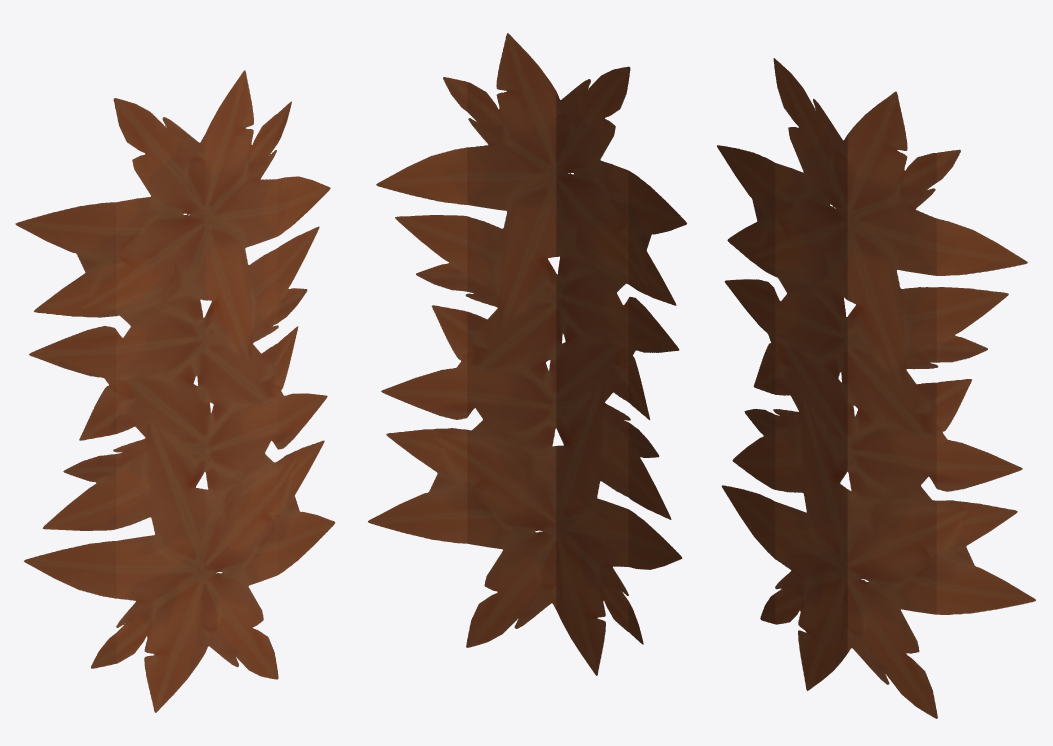
File: Veg_Moss_D.fbx
The picture shows the model from 3 angles, left to right: view 1: azimuth 30°, elevation 25°; view 2: azimuth 150°, elevation 25°; view 3: azimuth 330°, elevation 25°; orthographic projection.
Parts seen in each view (by area): view 1: Veg_Moss_D; view 2: Veg_Moss_D; view 3: Veg_Moss_D.
Boxes of the visible parts, x1=… form: Veg_Moss_D: x1=15, y1=70, x2=335, y2=712; Veg_Moss_D: x1=368, y1=33, x2=686, y2=675; Veg_Moss_D: x1=717, y1=58, x2=1035, y2=718.
Size of the model in its own units: 108 by 205 by 17.24.
